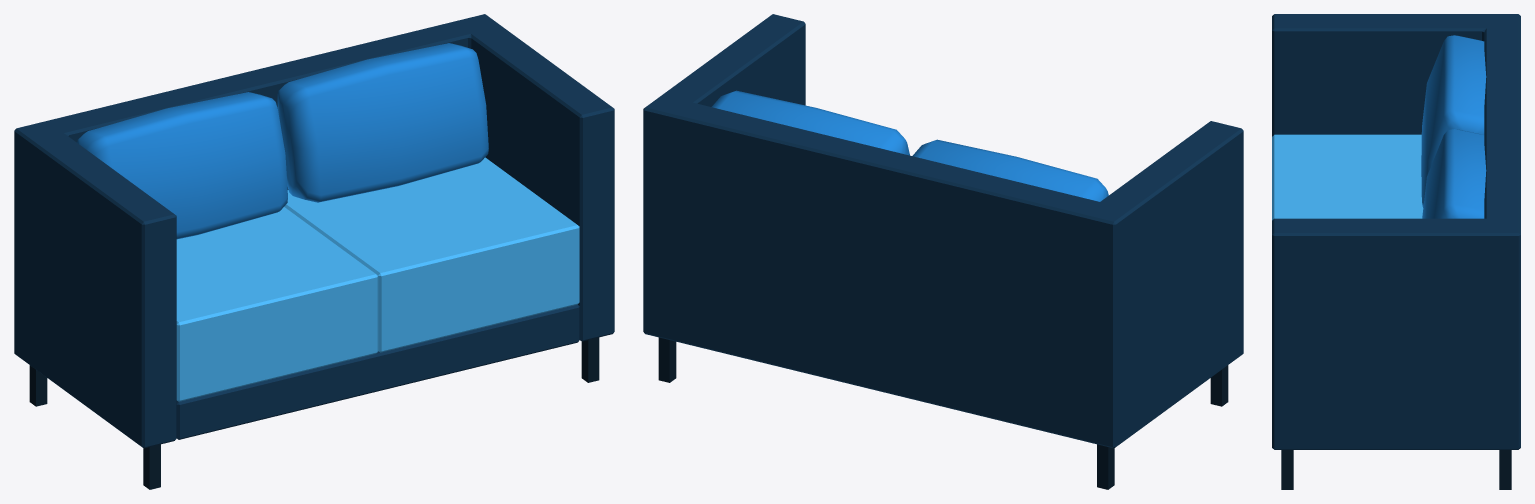
The model's file is Prop_Sofa_06_C.fbx.
3 renders of one model, left to right at view 1: azimuth 30°, elevation 25°; view 2: azimuth 150°, elevation 25°; view 3: azimuth 270°, elevation 25°, orthographic. The views are drawn at different scales.
Parts seen in each view (by area): view 1: Prop_Sofa_06_C; view 2: Prop_Sofa_06_C; view 3: Prop_Sofa_06_C.
Part boxes in pixels (bbox=[...]): Prop_Sofa_06_C: bbox=[14, 14, 614, 489]; Prop_Sofa_06_C: bbox=[643, 14, 1243, 489]; Prop_Sofa_06_C: bbox=[1272, 14, 1520, 489].
Size of the model in its own units: 159 by 89.78 by 75.58.
